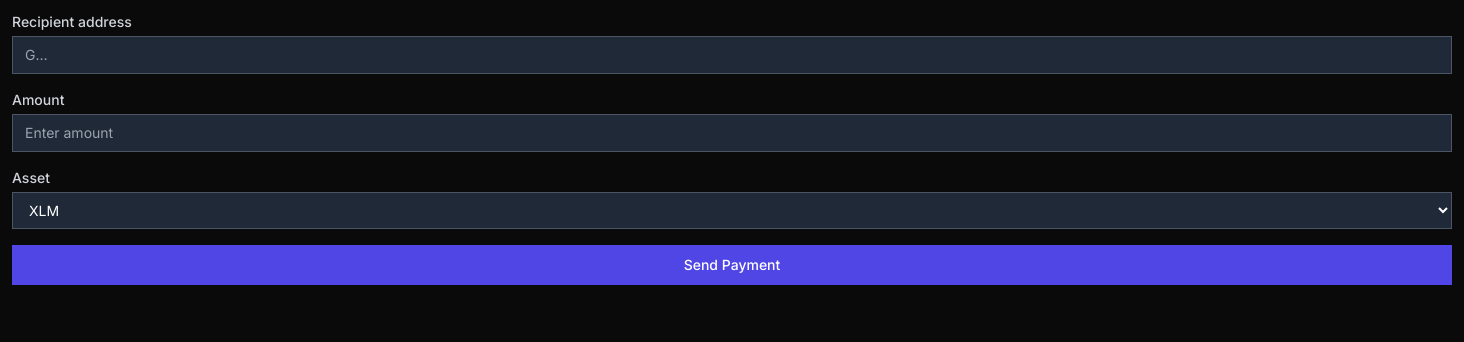
Test case: PaymentForm › shows validation error for non-positive amount
Type "GAAZI4TCR3TY5OJHCTJC2A4QSY6CJWJH5IAJTGKIN2ER7LBNVKOCCWN" into the field labelled "Recipient address" at (732, 55), box left=12, top=36, right=1452, bottom=74
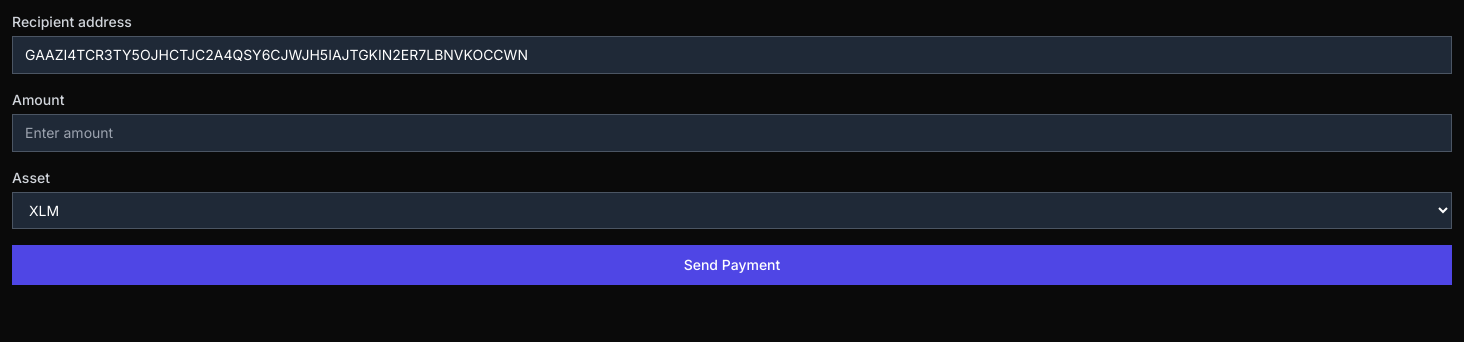
Type "-5" into the number field labelled "Amount" at (732, 133), box left=12, top=114, right=1452, bottom=152
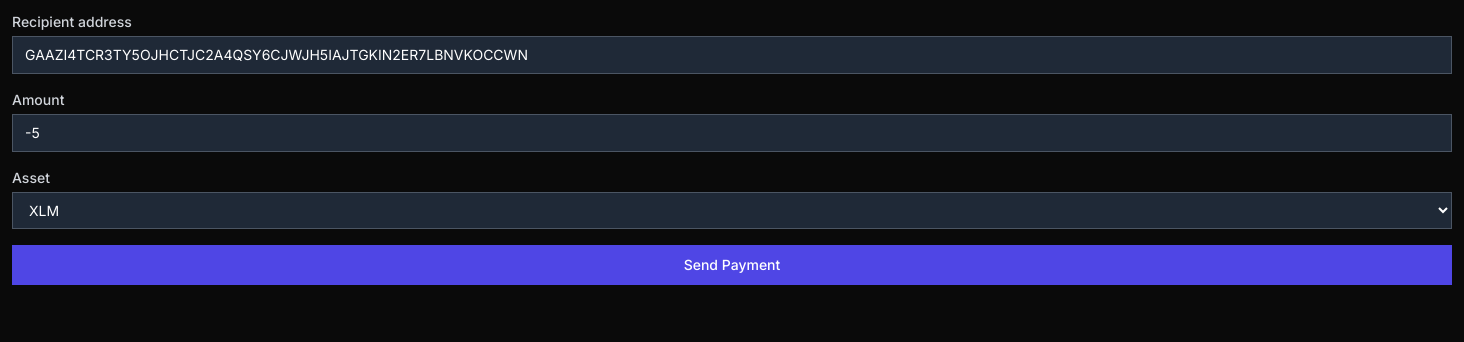
Click the button "Send Payment" at (732, 265), box left=12, top=245, right=1452, bottom=285
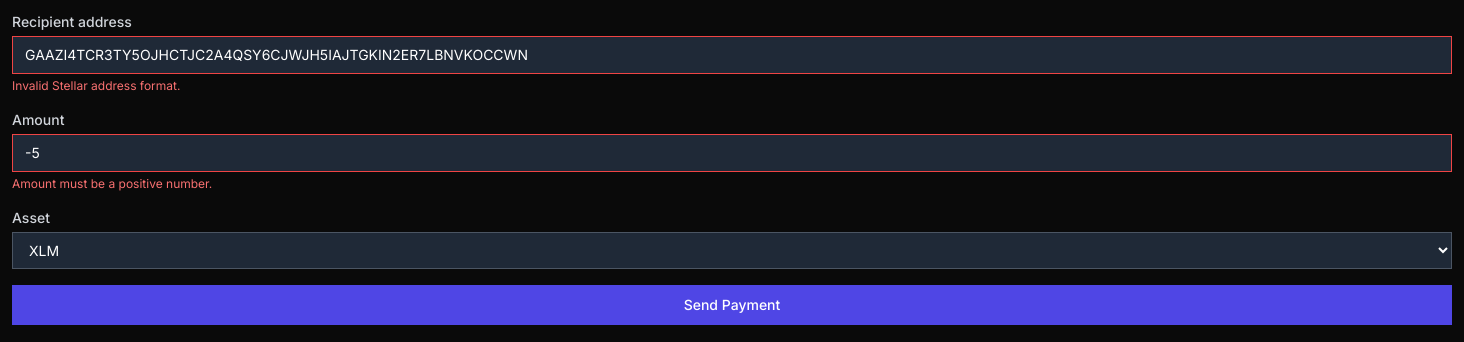
Expected: the text "Amount must be a positive number." is shown, left=12, top=176, right=212, bottom=191
